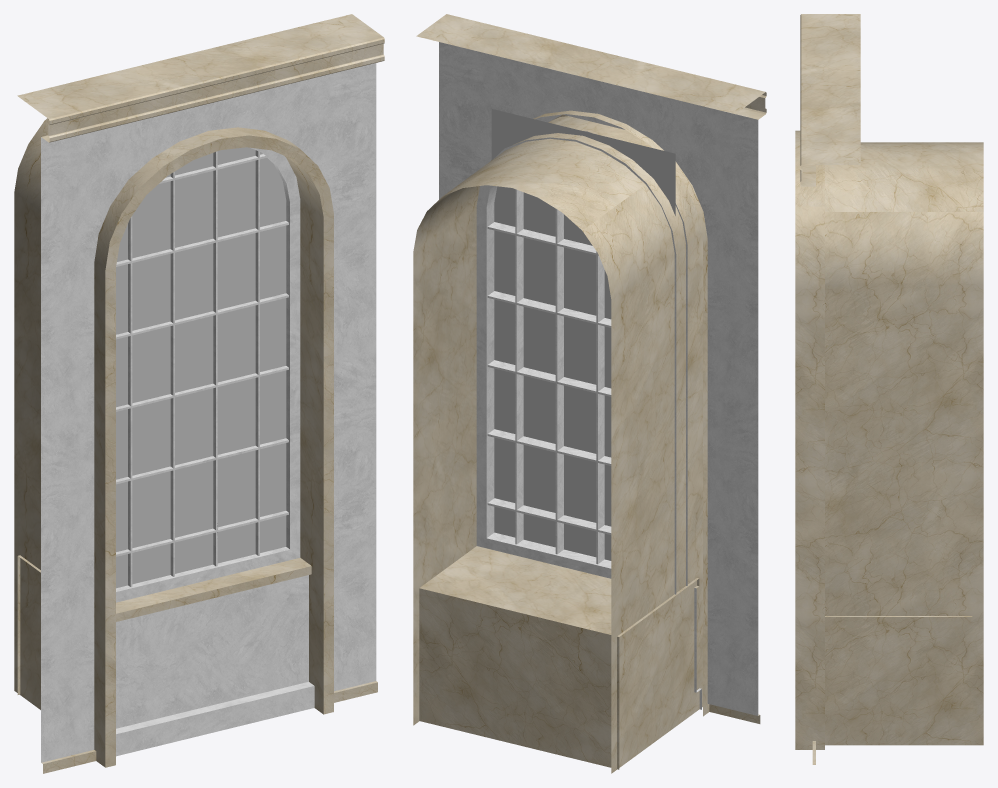
3 renders of one model, left to right at view 1: azimuth 30°, elevation 25°; view 2: azimuth 150°, elevation 25°; view 3: azimuth 270°, elevation 25°, orthographic. The views are drawn at different scales.
Visible parts, largest first — view 1: M_W_201_e_3x6, M_W_201_e_3x6_glass; view 2: M_W_201_e_3x6, M_W_201_e_3x6_glass; view 3: M_W_201_e_3x6.
Boxes of the visible parts, x1,y1,x2,y2 form: M_W_201_e_3x6: [14, 14, 384, 773]; M_W_201_e_3x6_glass: [116, 147, 286, 588]; M_W_201_e_3x6: [413, 14, 766, 773]; M_W_201_e_3x6_glass: [491, 109, 675, 560]; M_W_201_e_3x6: [795, 14, 983, 764].
Size of the model in its own units: 3.2 by 6.02 by 1.68.
